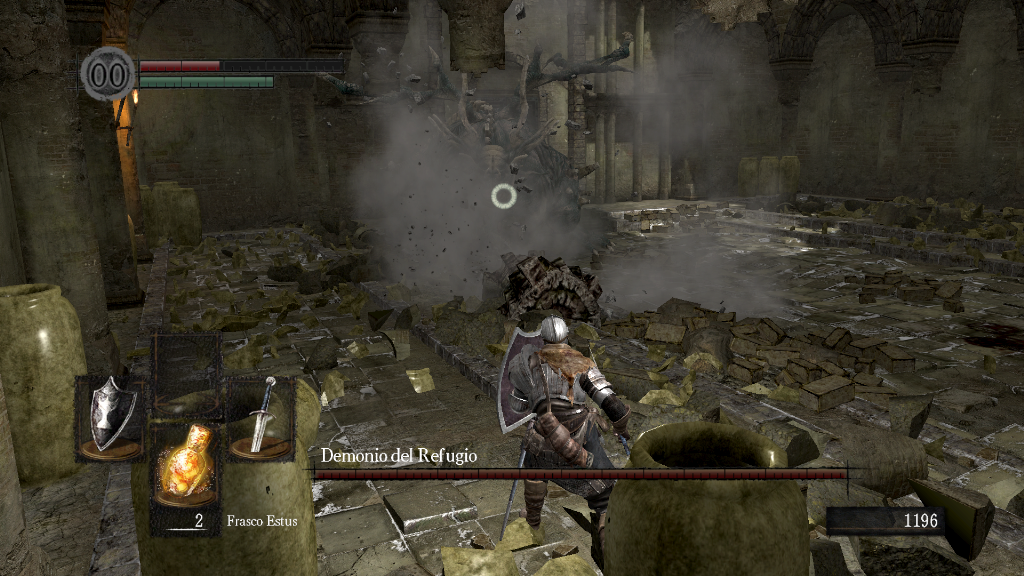asylumDemon: (313, 41, 636, 316)
bossHP: (314, 469, 847, 479)
health: (138, 58, 343, 71)
humanity: (80, 45, 136, 102)
player: (497, 314, 635, 528)
souls: (825, 506, 945, 536)
stamina: (138, 74, 274, 88)
